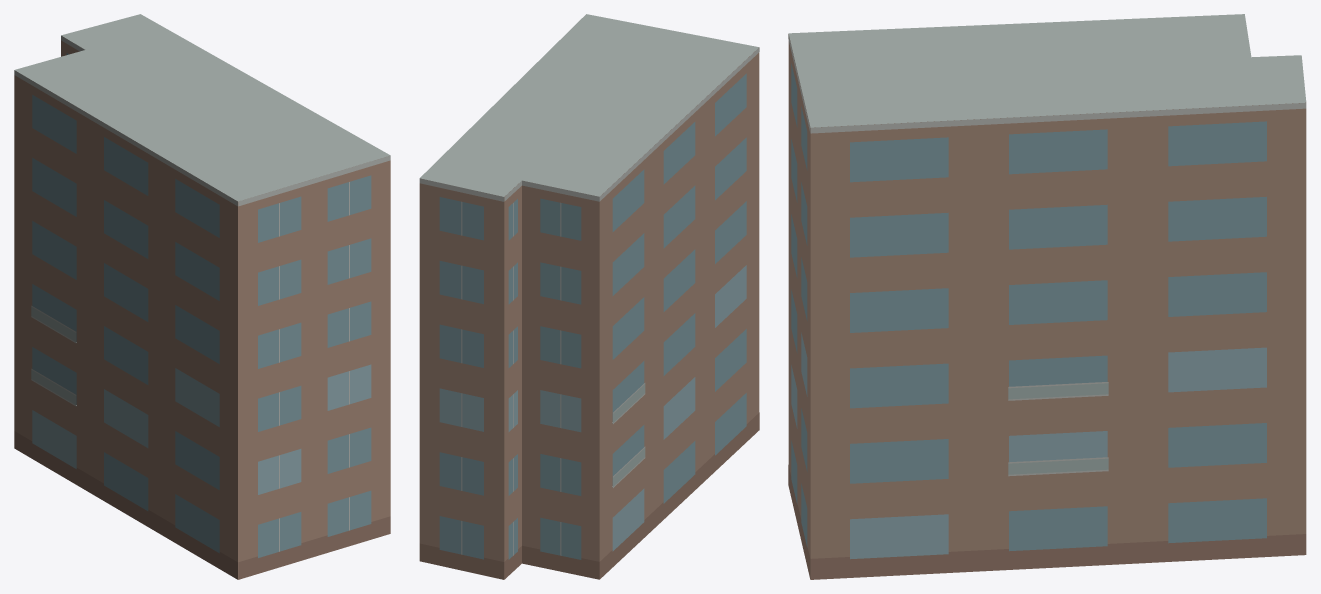
File: survey-upis-32870466.glb
The picture shows the model from 3 angles, left to right: view 1: azimuth 30°, elevation 25°; view 2: azimuth 150°, elevation 25°; view 3: azimuth 270°, elevation 25°; orthographic projection. The views are drawn at different scales.
Visible parts, largest first — view 1: survey-upis-32870466.tmp; view 2: survey-upis-32870466.tmp; view 3: survey-upis-32870466.tmp.
Boxes of the visible parts, bbox=[...] form: survey-upis-32870466.tmp: bbox=[14, 14, 390, 579]; survey-upis-32870466.tmp: bbox=[419, 14, 759, 579]; survey-upis-32870466.tmp: bbox=[788, 14, 1306, 579].
Size of the model in its own units: 10.09 by 18.7 by 19.42.
